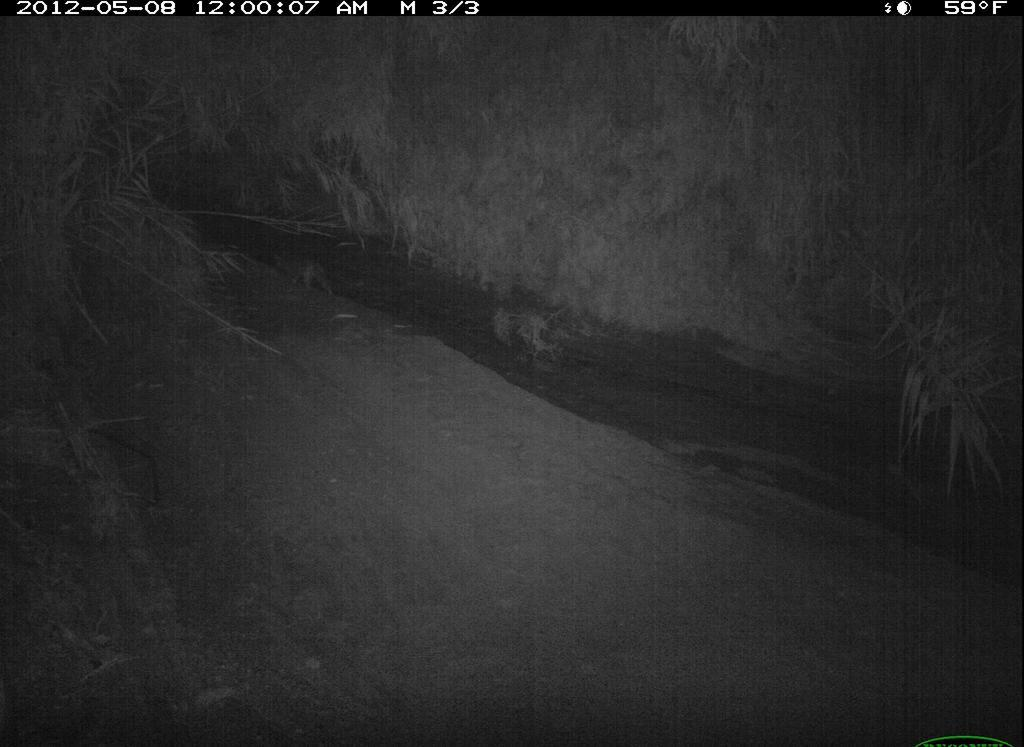cat: (537, 489, 741, 604)
